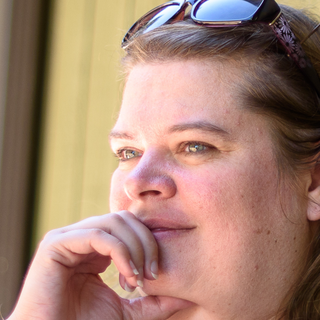eye: (171, 136, 222, 160), (115, 143, 146, 164)
